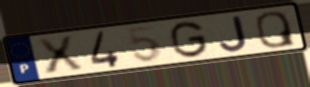4: (89, 29, 121, 69)
5: (126, 25, 166, 64)
G: (169, 19, 210, 59)
J: (218, 14, 251, 53)
Q: (254, 10, 298, 50)
X: (33, 34, 87, 76)
